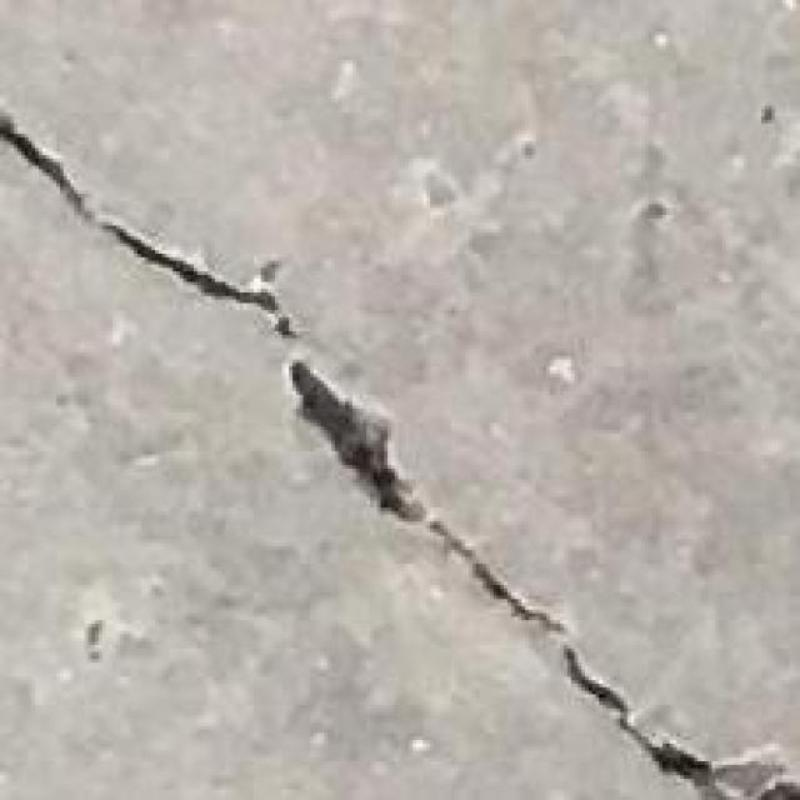pothole: (0, 109, 799, 799)
